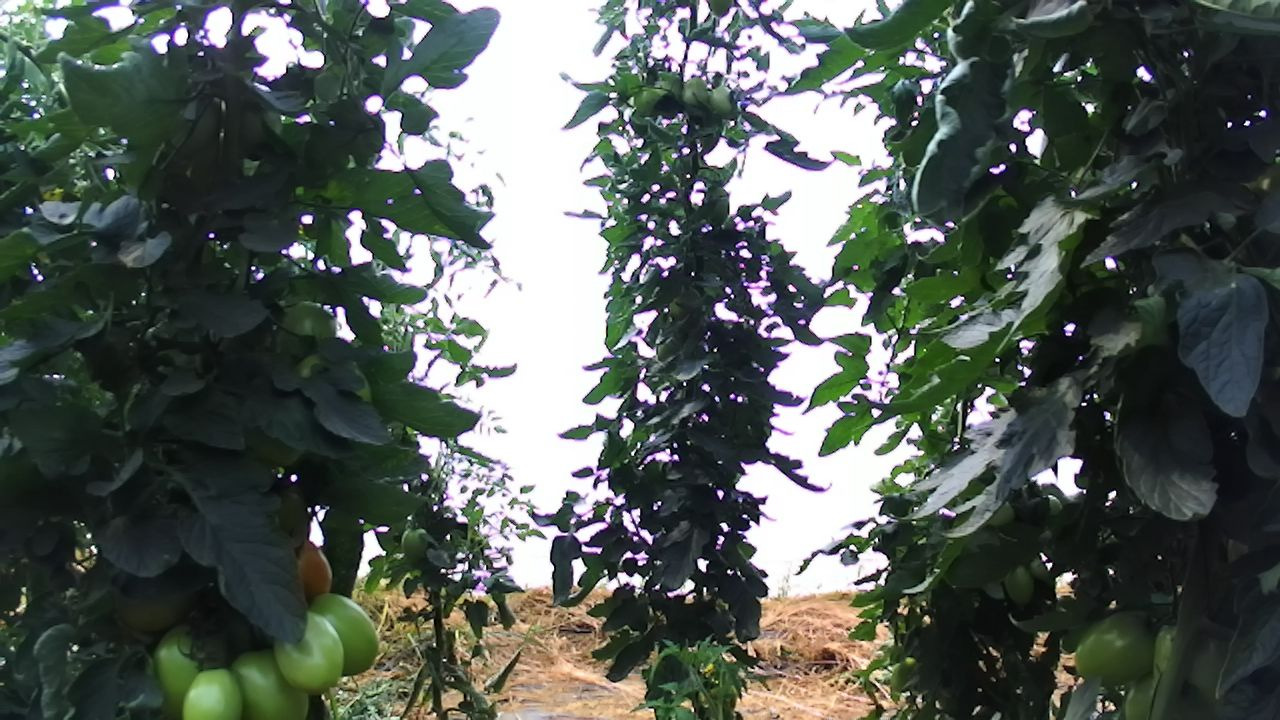tomato: (304, 586, 382, 681), (1070, 606, 1161, 686), (226, 643, 318, 720), (269, 602, 343, 697), (178, 662, 247, 720), (1003, 561, 1040, 609)
